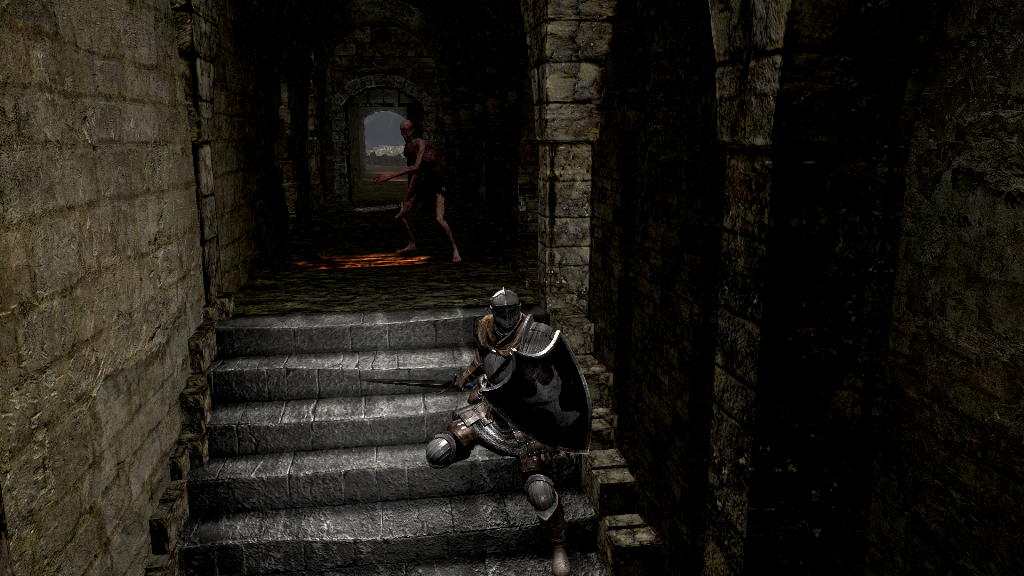hollow: (372, 117, 462, 263)
player: (358, 286, 595, 576)
